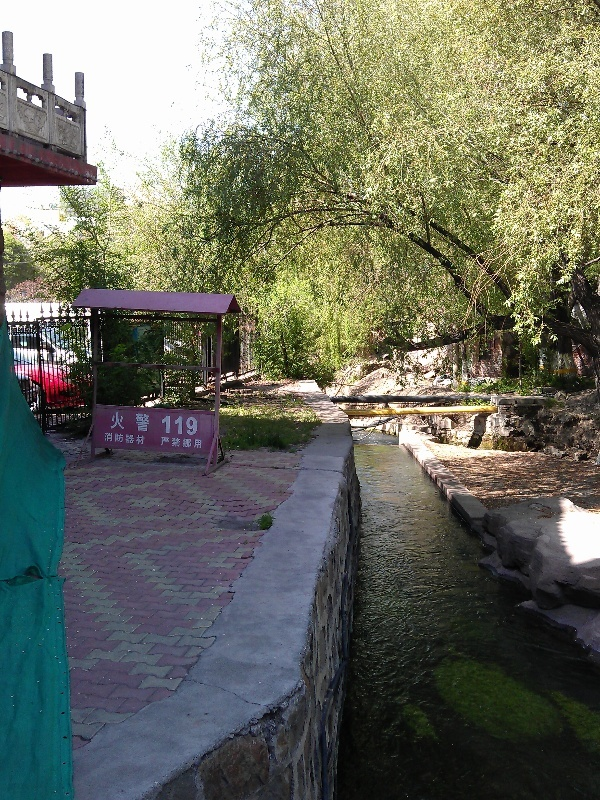text: (177, 415, 192, 437), (113, 412, 128, 432), (129, 412, 144, 432), (163, 415, 176, 437), (113, 433, 128, 446), (129, 433, 144, 446), (161, 437, 176, 449), (177, 437, 192, 449), (193, 415, 200, 437), (145, 412, 151, 432), (193, 437, 203, 449), (105, 433, 112, 446), (145, 433, 147, 446)
